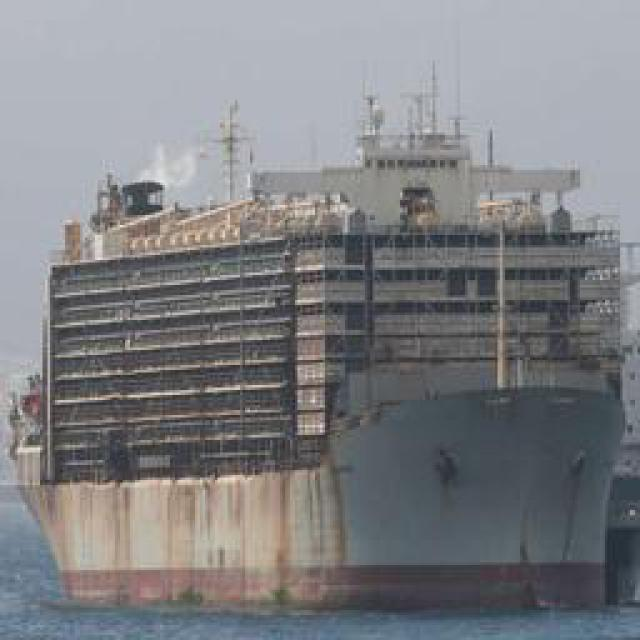Ship: (28, 111, 640, 612)
